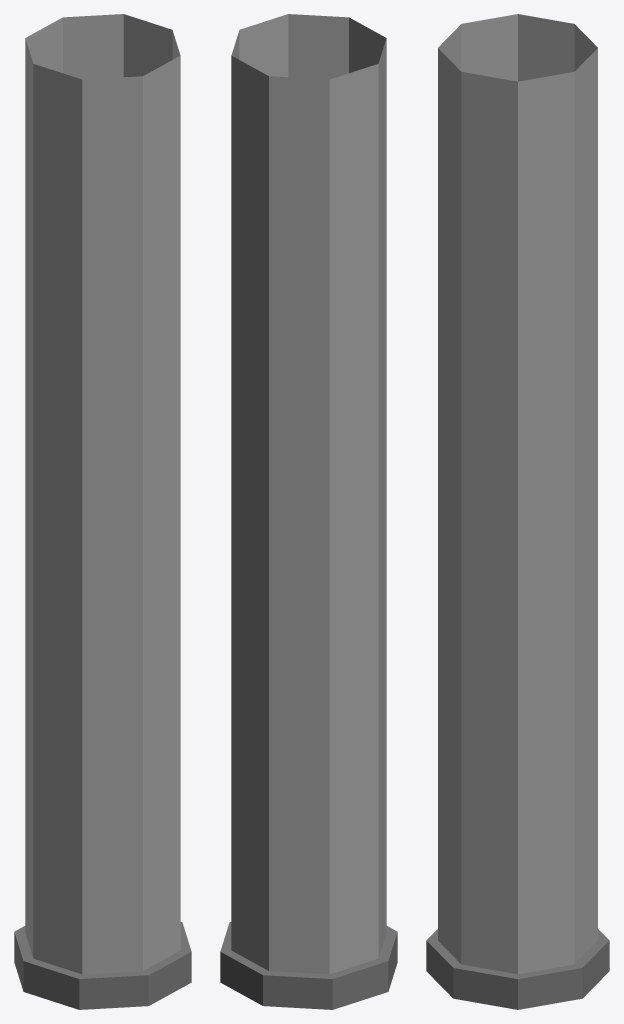
Rendered from SM_drainPipe_02.glb.
The picture shows the model from 3 angles, left to right: view 1: azimuth 30°, elevation 25°; view 2: azimuth 150°, elevation 25°; view 3: azimuth 270°, elevation 25°; orthographic projection.
Parts seen in each view (by area): view 1: SM_drainPipe_02; view 2: SM_drainPipe_02; view 3: SM_drainPipe_02.
Part boxes in pixels (left/top/right/bottom): SM_drainPipe_02: left=14, top=14, right=191, bottom=1009; SM_drainPipe_02: left=220, top=14, right=397, bottom=1009; SM_drainPipe_02: left=426, top=14, right=609, bottom=1009.
Size of the model in its own units: 0.2695 by 1.5 by 0.2695.
Materials: 1 (1 with a texture image).
